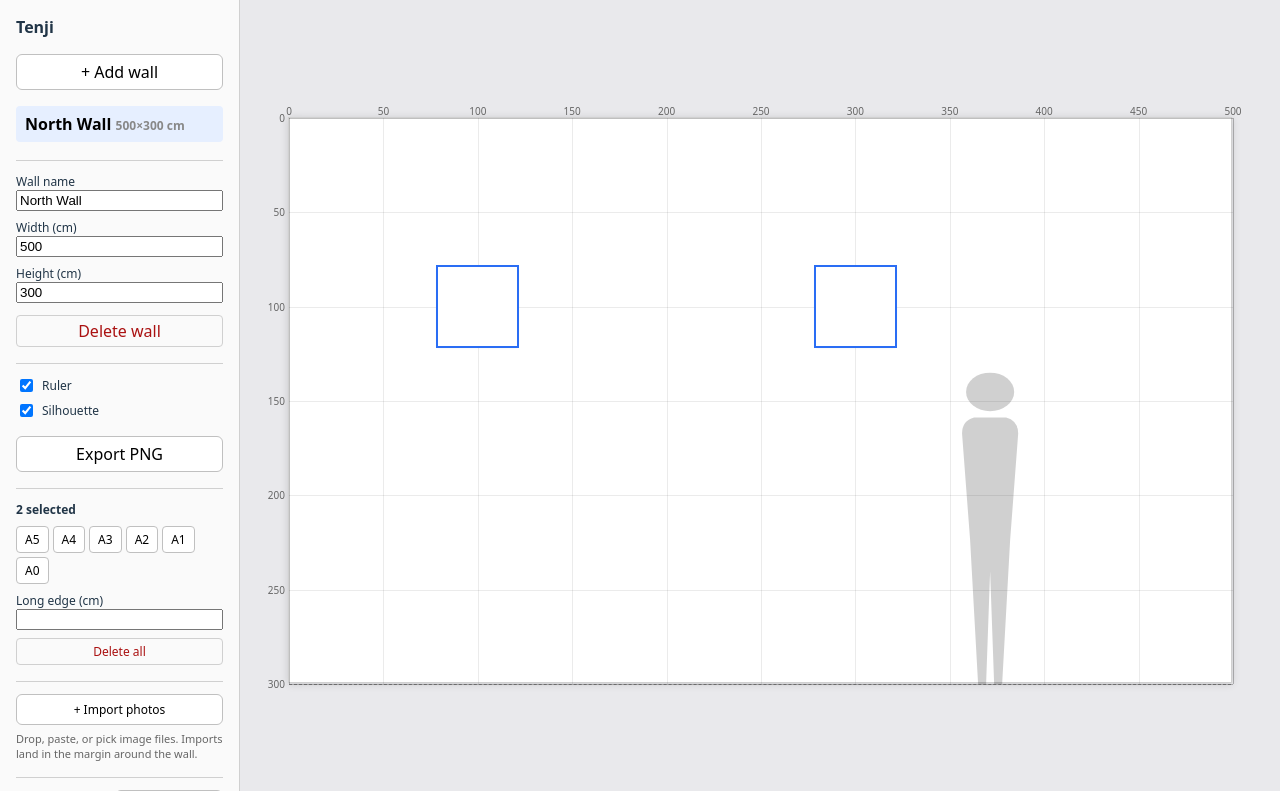
Test case: App › group inspector Delete all removes every selected placement
Expected: the element with test id "group-inspector" is shown, [16,488,223,665]
Click the button "Delete all" at (120,652), box [16,638,223,665]
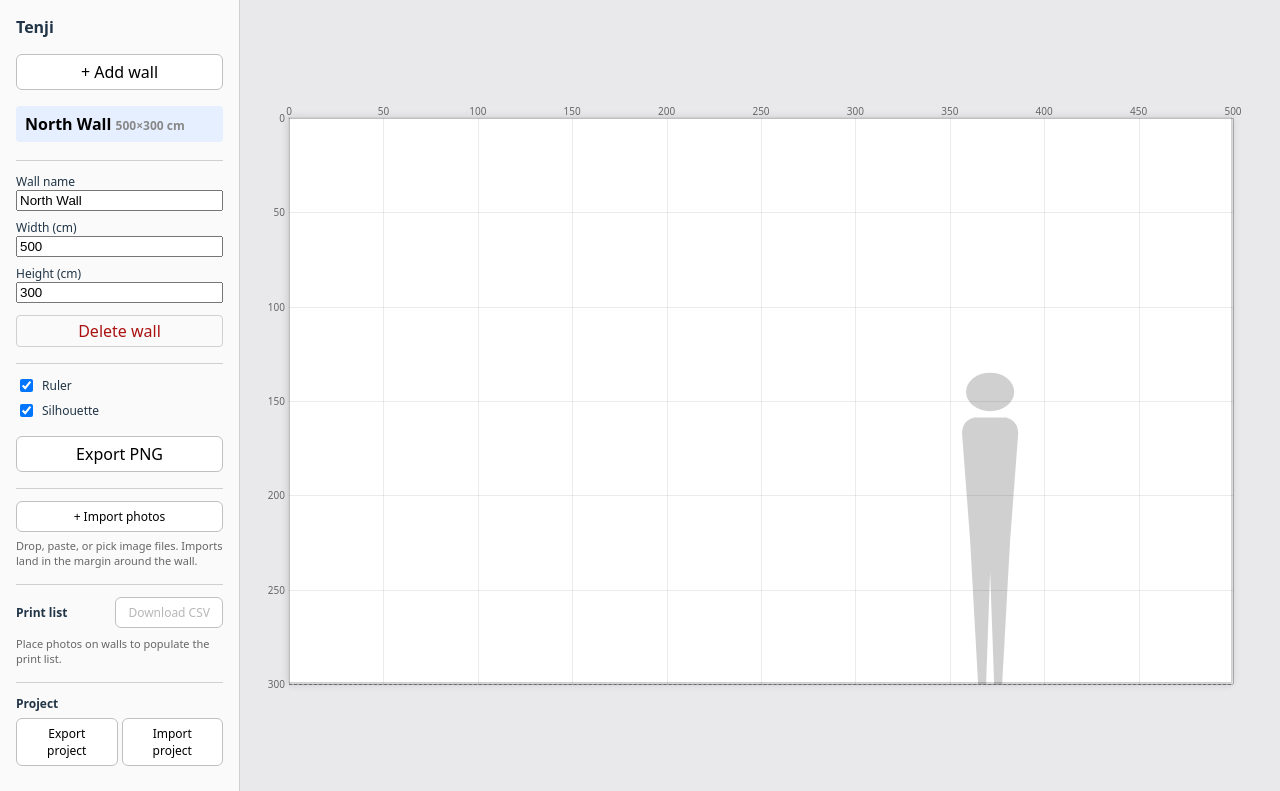
Expected: the element with test id "placement-pl-a" is gone
Expected: the element with test id "placement-pl-b" is gone
